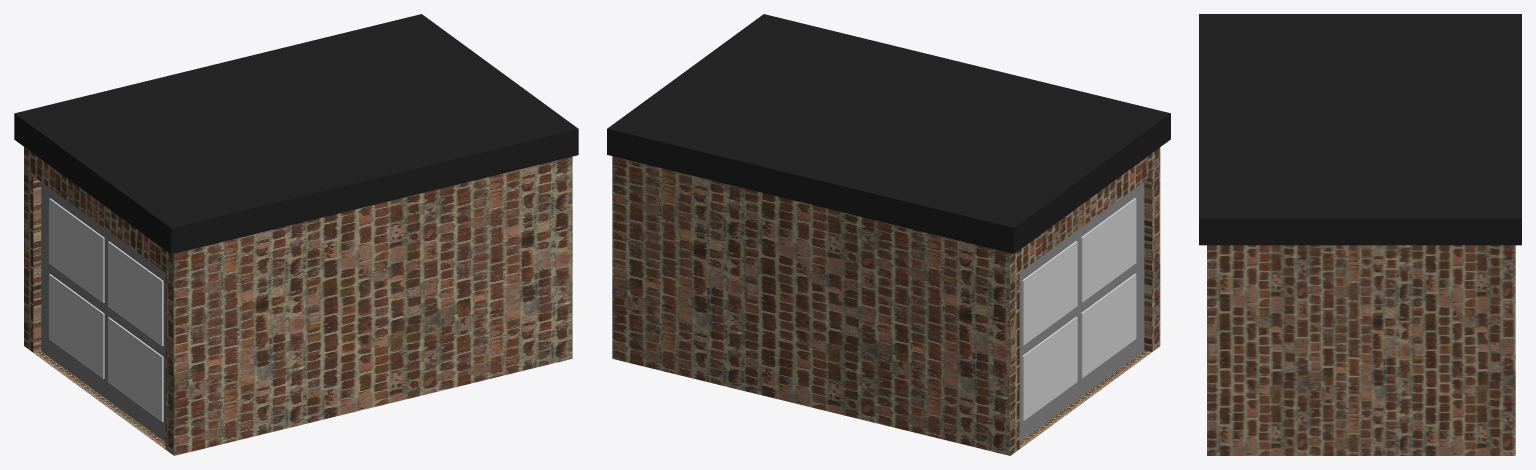
File: garage.glb
The picture shows the model from 3 angles, left to right: view 1: azimuth 30°, elevation 25°; view 2: azimuth 150°, elevation 25°; view 3: azimuth 270°, elevation 25°; orthographic projection. The views are drawn at different scales.
Parts seen in each view (by area): view 1: Cube; view 2: Cube; view 3: Cube.
Boxes of the visible parts, box(x1,y1,x2,y2) form: Cube: box(14, 14, 578, 455); Cube: box(607, 14, 1170, 455); Cube: box(1199, 14, 1521, 455).
Size of the model in its own units: 17.17 by 9.43 by 11.46.
Materials: 3 (1 with a texture image).
